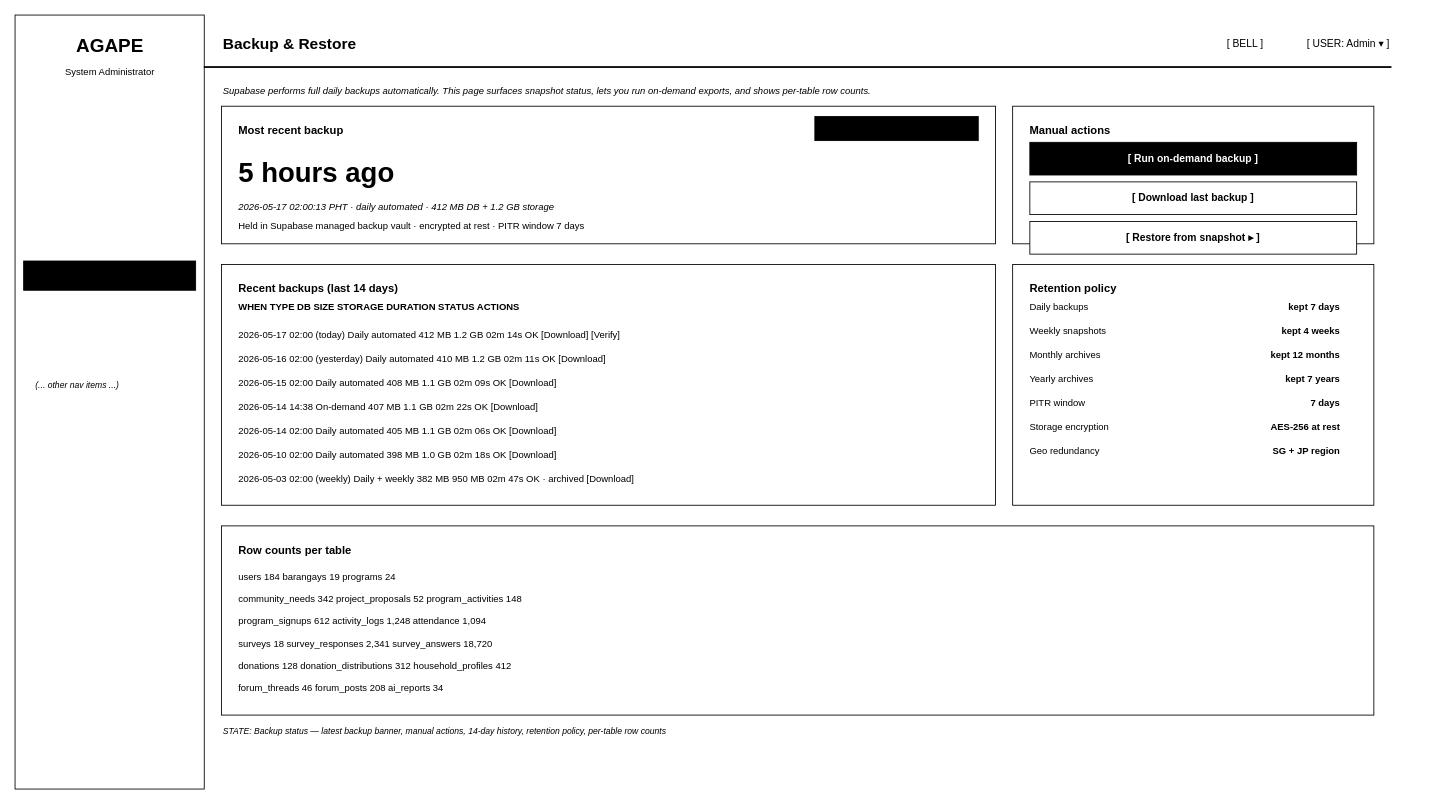
Some shapes in this 1441 by 804 pixel diagram are drawn without their labels. The shapes that lost their labels are listed below. From the top down, each one's centre as x and y in pixels, then its label:
At pixel 896 128: "STATUS: HEALTHY".
At pixel 109 275: "[x] Backup".
